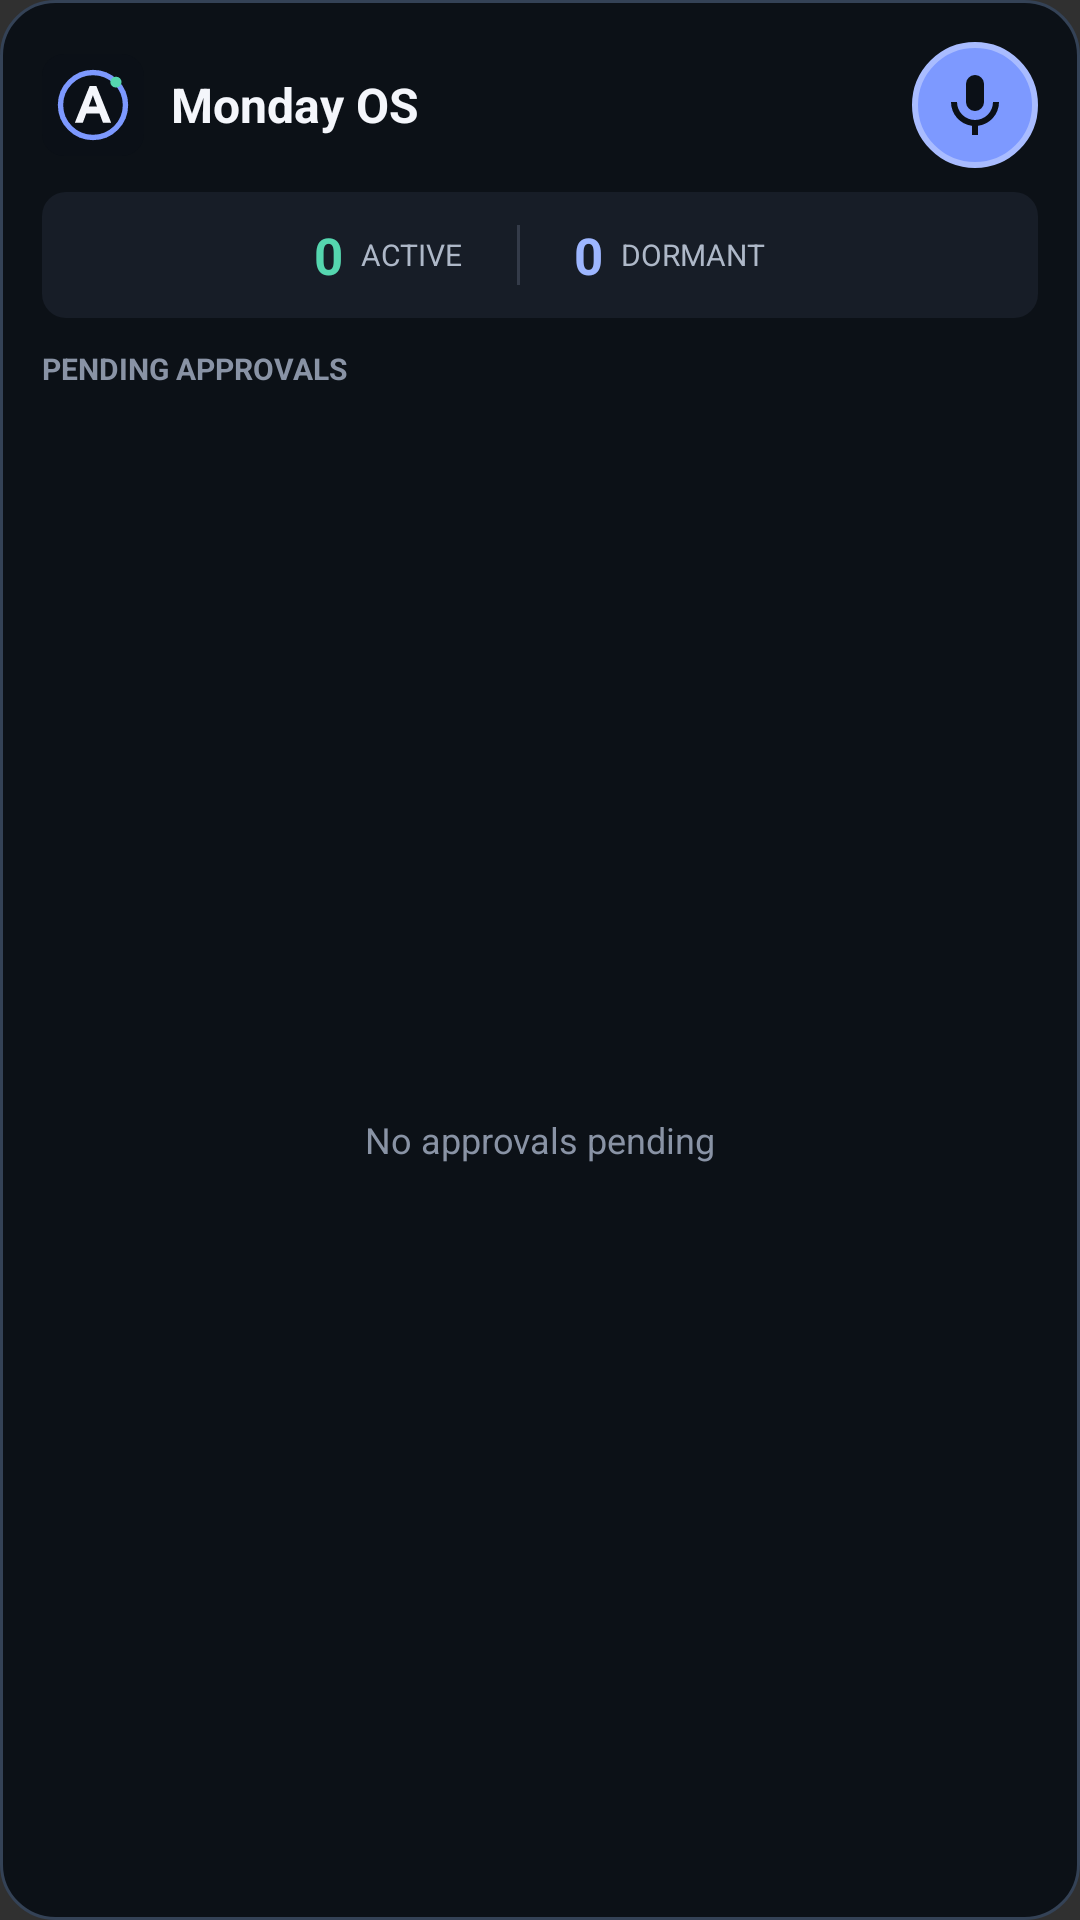

Icon bounding boxes for this 1080px×1920px phone screenshot, format (x1, y1, x2, y2):
Open Athena Voice: (912, 42, 1038, 168)
